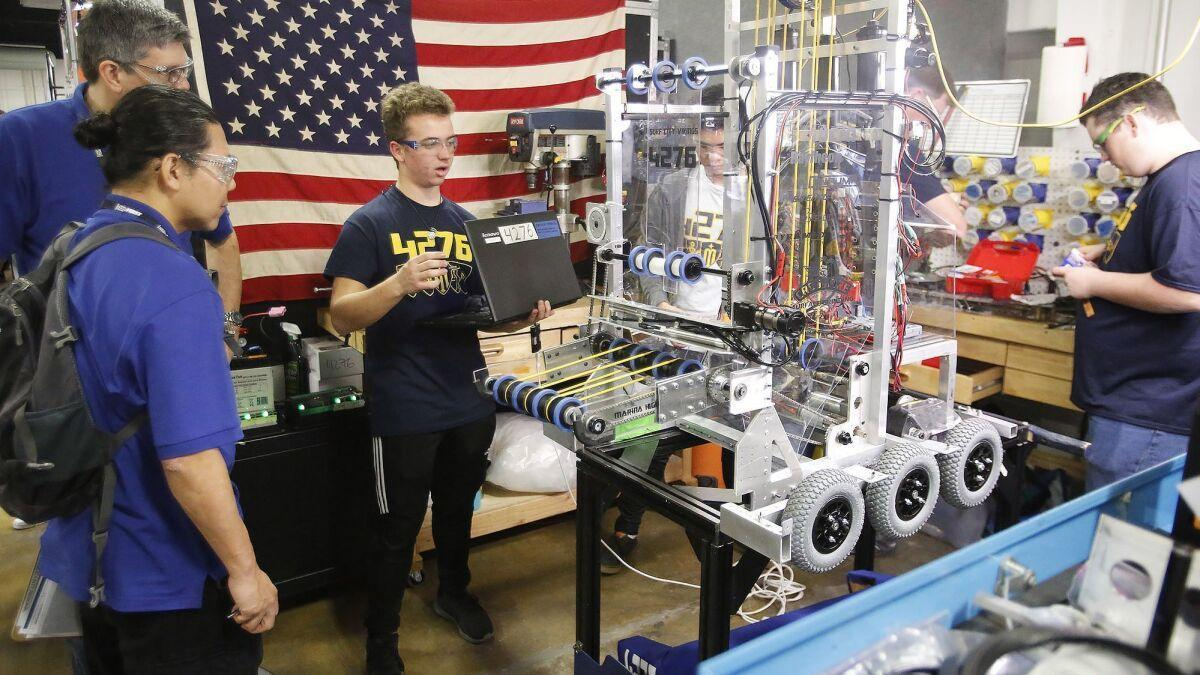robot: (470, 0, 1036, 568)
